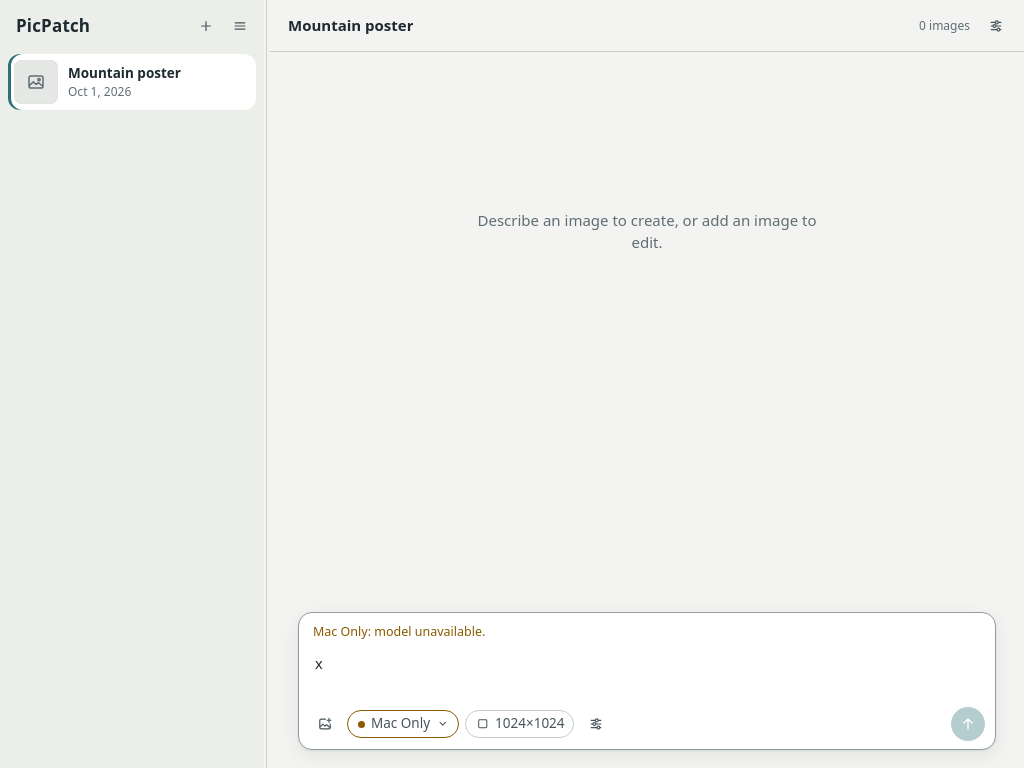
Test case: says when models this computer cannot run are hidden, and reports a session model it cannot run as unavailable
Check: the text box named "Command" is shown, box [309, 649, 985, 701]
Check: the text "Mac Only: model unavailable." is shown, box [313, 623, 485, 641]
Click the button "Mac Only" at (403, 724), box [347, 710, 459, 738]
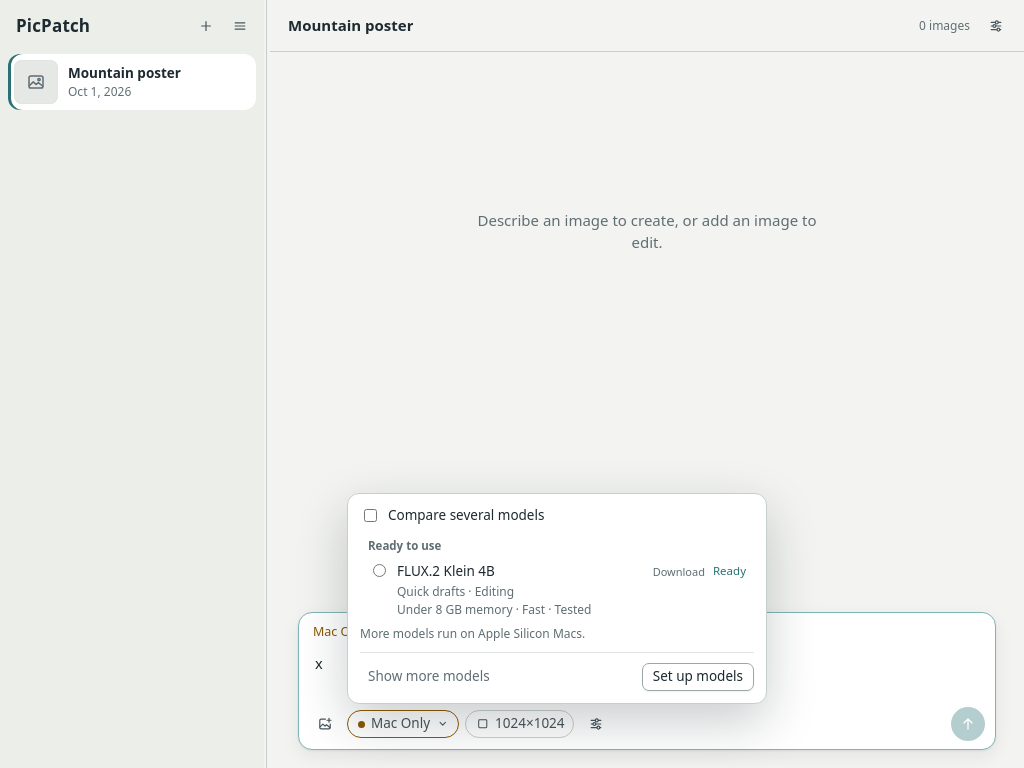
Check: the text "More models run on Apple Silicon Macs." is shown, box [360, 625, 585, 642]
